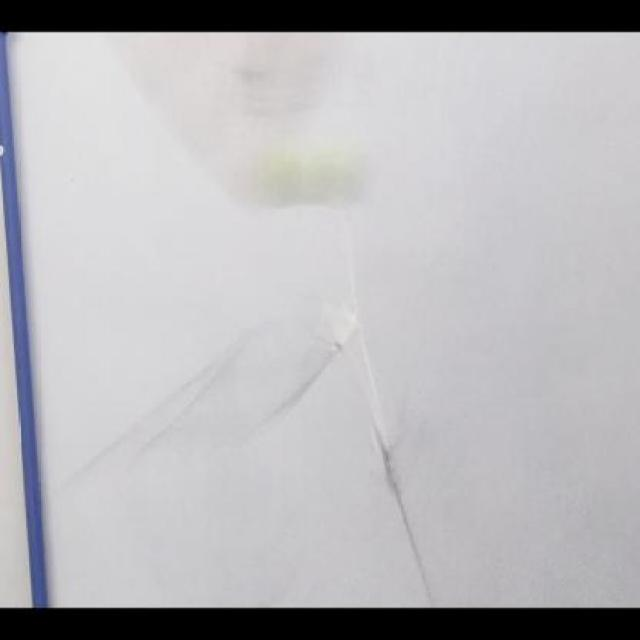baseball: (250, 123, 367, 209)
